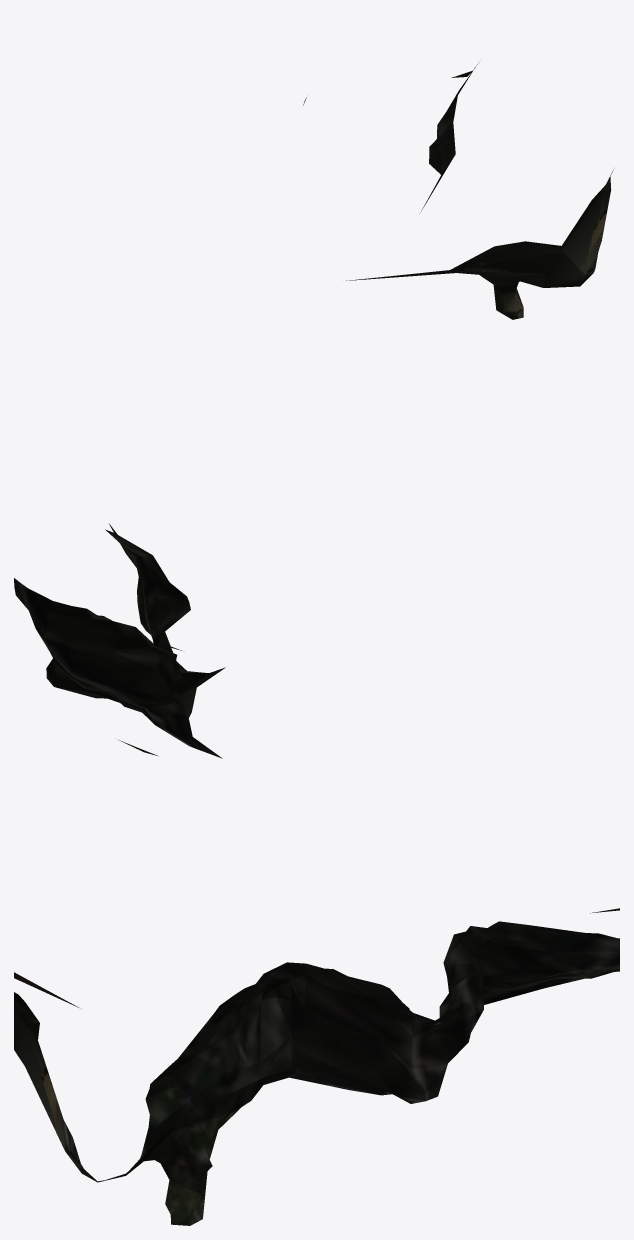
3 views of the same model, one above another, from view 1: azimuth 30°, elevation 25°; view 2: azimuth 150°, elevation 25°; view 3: azimuth 270°, elevation 25° (orthographic). The views are drawn at different scales.
Bounding box in the file's own units: 0.8374 × 0.4015 × 0.8373.
3 materials, 3 textured.
